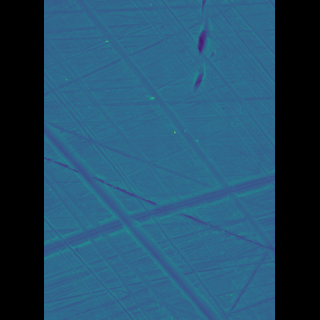Loch: (77, 115, 206, 320), (182, 0, 199, 93)
